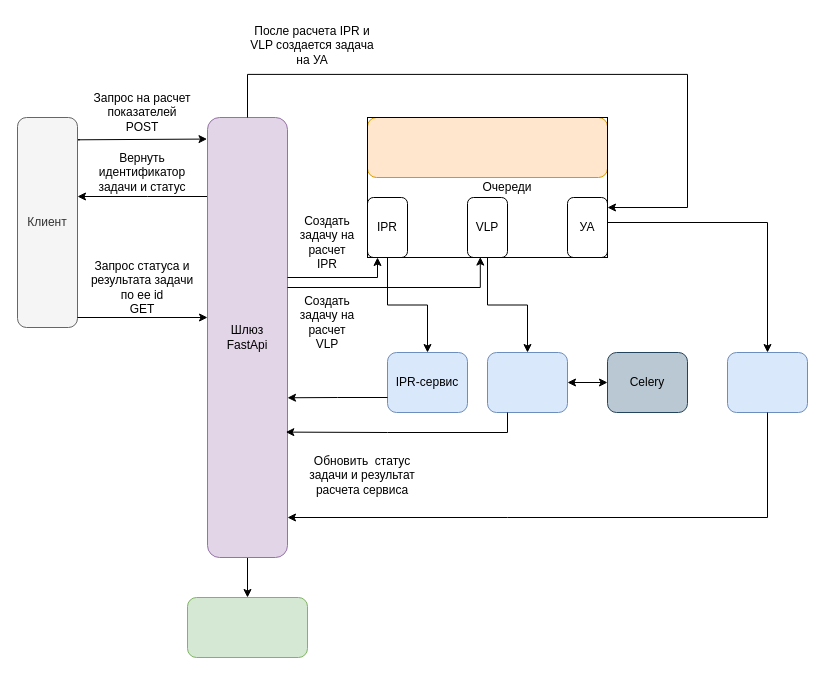
Some shapes in this 825 by 675 pixel diagram are drawn without their labels. Each missing label, with the centre of its shape:
"Postgres" belongs at [247,627].
"RabbitMQ" belongs at [487,147].
"VLP-сервис" belongs at [527,382].
"УА-сервис" belongs at [767,382].
